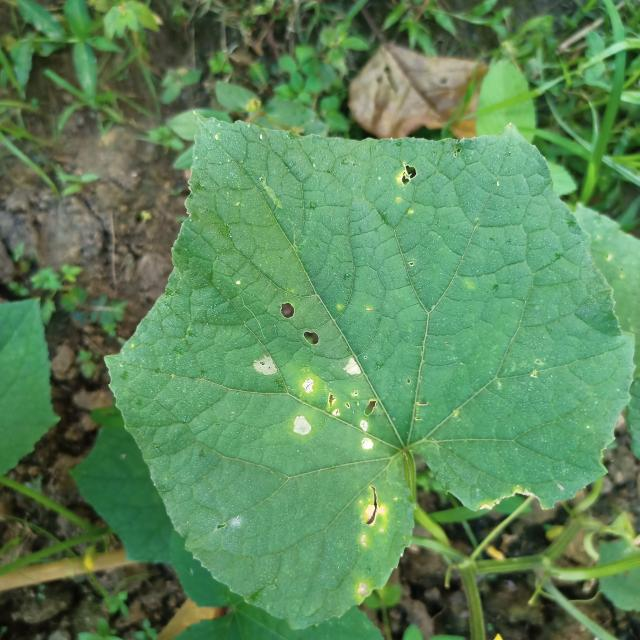disease_cucumber: (244, 337, 400, 467)
